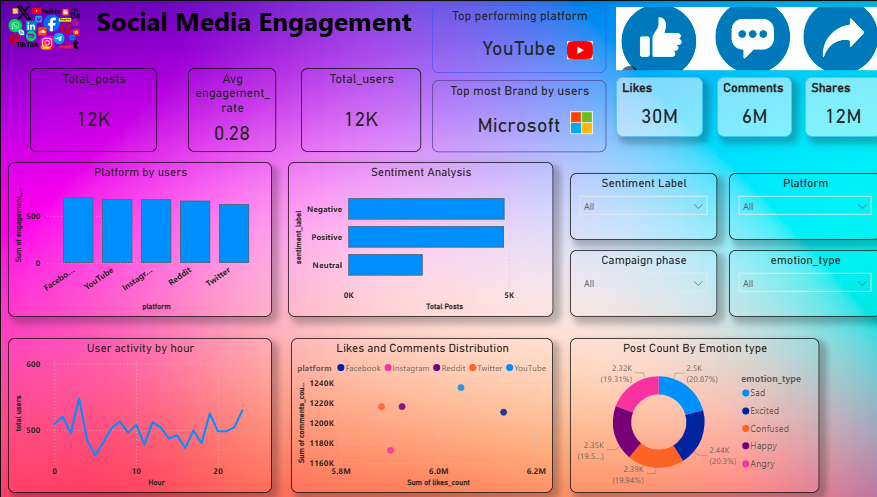

This screenshot's page, from the dashboard's own definition file:
{"tool":"powerbi","page":{"name":"Page 1","canvas":[1280,720],"ordinal":0},"visuals":[{"type":"card","title":"Total_posts","fields":{"Values":["social_media cleaned_data_social_media.Total Posts"]},"box":[43.2,97.9,182.9,121],"z":0},{"type":"card","title":"Total_users","fields":{"Values":["social_media cleaned_data_social_media.total users"]},"box":[433.4,97.9,172.8,121],"z":1000},{"type":"card","title":"Top  performing platform","fields":{"Values":["social_media cleaned_data_social_media.Top performing platform"]},"box":[622.1,7.2,250.6,97.9],"z":2000},{"type":"card","title":"Top most Brand by users","fields":{"Values":["social_media cleaned_data_social_media.Top most Brand by users"]},"box":[622.1,115.2,250.6,103.7],"z":3000},{"type":"card","title":"Avg engagement_rate","fields":{"Values":["social_media cleaned_data_social_media.Avg Engagement_rate"]},"box":[270.7,97.9,126.7,121],"z":4000},{"type":"slicer","title":"Platform","fields":{"Values":["social_media cleaned_data_social_media.platform"]},"box":[1049.8,249.1,218.9,96.5],"z":5000},{"type":"slicer","title":"emotion_type","fields":{"Values":["social_media cleaned_data_social_media.emotion_type"]},"box":[1049.8,360,218.9,96.5],"z":6000},{"type":"slicer","title":"Campaign phase","fields":{"Values":["social_media cleaned_data_social_media.campaign_phase"]},"box":[820.8,360,211.7,96.5],"z":7000},{"type":"slicer","title":"Sentiment Label","fields":{"Values":["social_media cleaned_data_social_media.sentiment_label"]},"box":[820.8,249.1,211.7,96.5],"z":8000},{"type":"donutChart","title":"Post Count By Emotion type","fields":{"Category":["social_media cleaned_data_social_media.emotion_type"],"Y":["CountNonNull(social_media cleaned_data_social_media.post_id)"]},"box":[820.8,486.7,358.6,223.2],"z":9000},{"type":"columnChart","title":"Platform by users","fields":{"Category":["social_media cleaned_data_social_media.platform"],"Y":["Sum(social_media cleaned_data_social_media.engagement_rate)"]},"box":[11.5,233.3,380.2,223.2],"z":10000},{"type":"lineChart","title":"User activity by hour","fields":{"Category":["social_media cleaned_data_social_media.Hour"],"Y":["social_media cleaned_data_social_media.total users"]},"box":[11.5,486.7,380.2,223.2],"z":11000},{"type":"barChart","title":"Sentiment Analysis","fields":{"Category":["social_media cleaned_data_social_media.sentiment_label"],"Y":["social_media cleaned_data_social_media.Total Posts"]},"box":[414.7,233.3,381.6,223.2],"z":12000},{"type":"scatterChart","title":"Likes and Comments Distribution","fields":{"X":["Sum(social_media cleaned_data_social_media.likes_count)"],"Y":["Sum(social_media cleaned_data_social_media.comments_count)"],"Series":["social_media cleaned_data_social_media.platform"]},"box":[419,486.7,377.3,223.2],"z":13000},{"type":"image","box":[11.5,7.2,105.1,64.8],"z":14000},{"type":"textbox","box":[11.5,0,708.5,72],"z":14001},{"type":"card","title":"Likes","fields":{"Values":["Sum(social_media cleaned_data_social_media.likes_count)"]},"box":[887,110.9,125.3,86.4],"z":14002},{"type":"card","title":"Comments","fields":{"Values":["Sum(social_media cleaned_data_social_media.comments_count)"]},"box":[1032.5,110.9,108,86.4],"z":14004},{"type":"card","title":"Shares","fields":{"Values":["Sum(social_media cleaned_data_social_media.shares_count)"]},"box":[1159.2,110.9,109.4,86.4],"z":14005},{"type":"image","box":[887,10.1,381.6,90.7],"z":14006},{"type":"image","box":[816.5,53.3,37.4,37.4],"z":14007},{"type":"image","box":[820.8,115.2,33.1,123.8],"z":14008}]}

Visuals, with their boxes in screenshot pixels (x1, y1, x2, y2), scaled from the page's 1280x720 canvas onto the 877x497 screenshot:
"Total_posts" card: x1=30 y1=68 x2=155 y2=151
"Total_users" card: x1=297 y1=68 x2=415 y2=151
"Top  performing platform" card: x1=426 y1=5 x2=598 y2=73
"Top most Brand by users" card: x1=426 y1=80 x2=598 y2=151
"Avg engagement_rate" card: x1=185 y1=68 x2=272 y2=151
"Platform" slicer: x1=719 y1=172 x2=869 y2=239
"emotion_type" slicer: x1=719 y1=248 x2=869 y2=315
"Campaign phase" slicer: x1=562 y1=248 x2=707 y2=315
"Sentiment Label" slicer: x1=562 y1=172 x2=707 y2=239
"Post Count By Emotion type" donutChart: x1=562 y1=336 x2=808 y2=490
"Platform by users" columnChart: x1=8 y1=161 x2=268 y2=315
"User activity by hour" lineChart: x1=8 y1=336 x2=268 y2=490
"Sentiment Analysis" barChart: x1=284 y1=161 x2=546 y2=315
"Likes and Comments Distribution" scatterChart: x1=287 y1=336 x2=546 y2=490
image: x1=8 y1=5 x2=80 y2=50
textbox: x1=8 y1=0 x2=493 y2=50
"Likes" card: x1=608 y1=77 x2=694 y2=136
"Comments" card: x1=707 y1=77 x2=781 y2=136
"Shares" card: x1=794 y1=77 x2=869 y2=136
image: x1=608 y1=7 x2=869 y2=70
image: x1=559 y1=37 x2=585 y2=63
image: x1=562 y1=80 x2=585 y2=165
